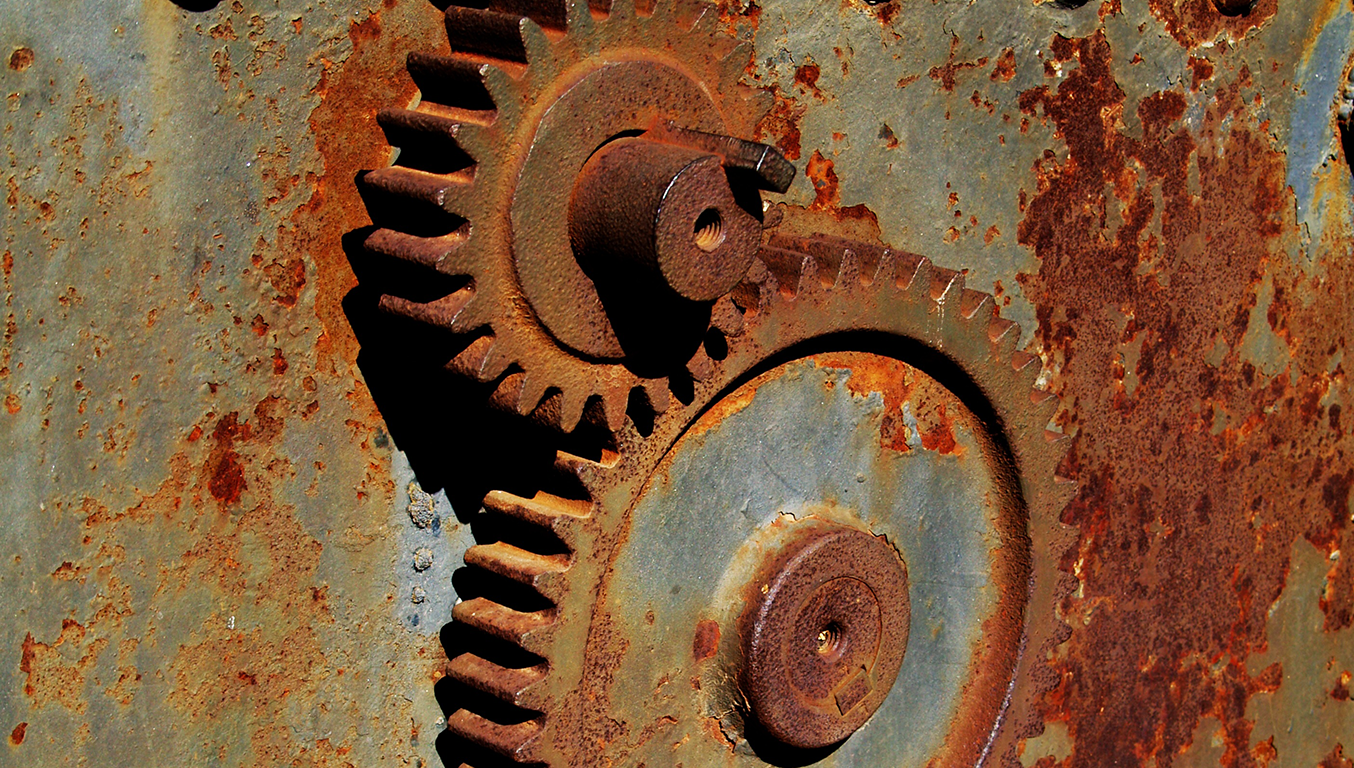rust: (1021, 79, 1319, 765), (579, 131, 802, 304), (749, 562, 918, 749), (209, 413, 307, 518)
